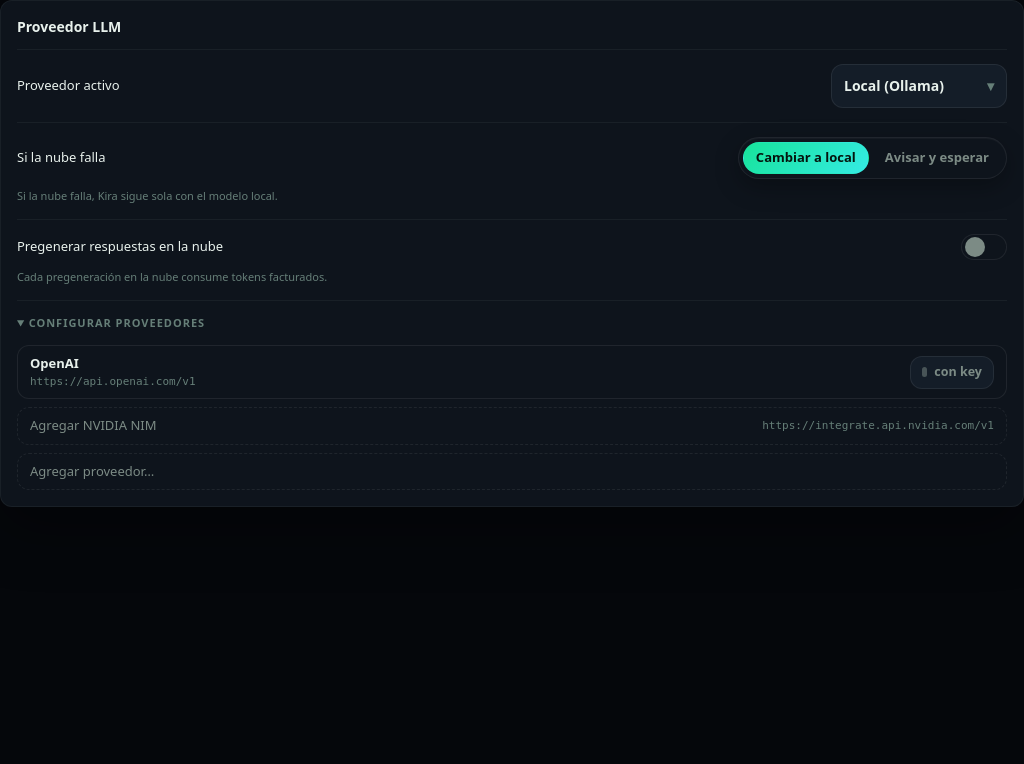
ProviderCard per-profile editor › disables Guardar for a custom id the inline hint already flagged invalid (F4)
The image size is (1024, 764).
Click the button "Agregar proveedor…". click: {"x": 92, "y": 471}
box: [17,453,1007,490]
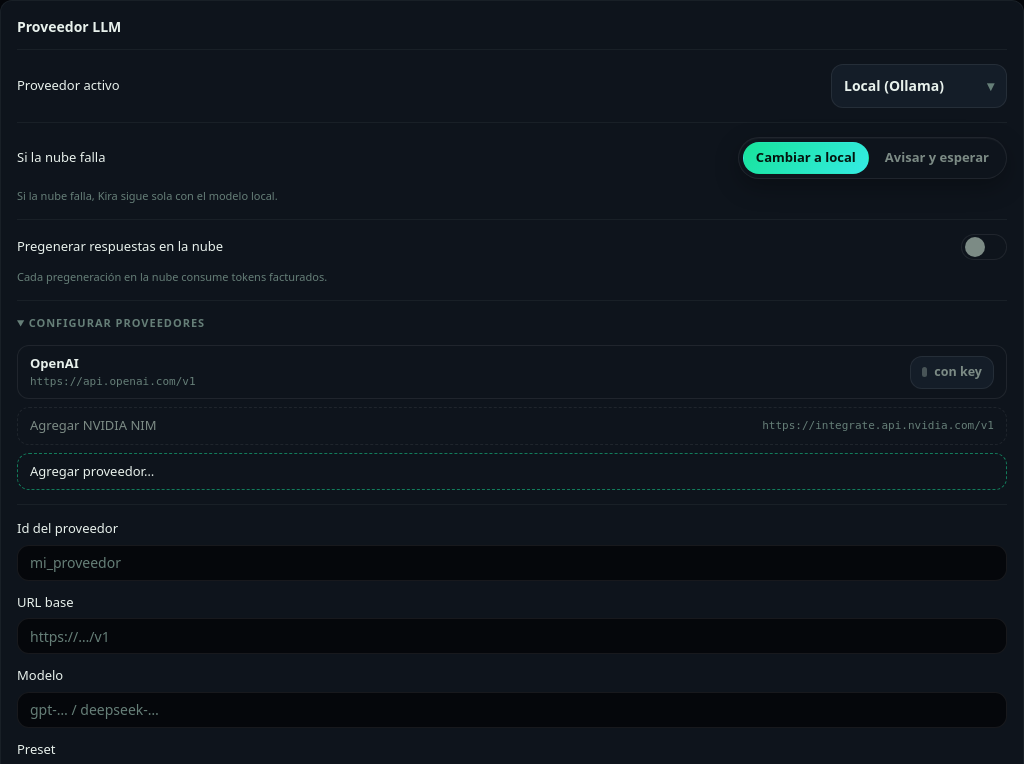
Type "Mi Proveedor" into the field labelled "Id del proveedor". click: {"x": 512, "y": 563}
box: [17,545,1007,581]
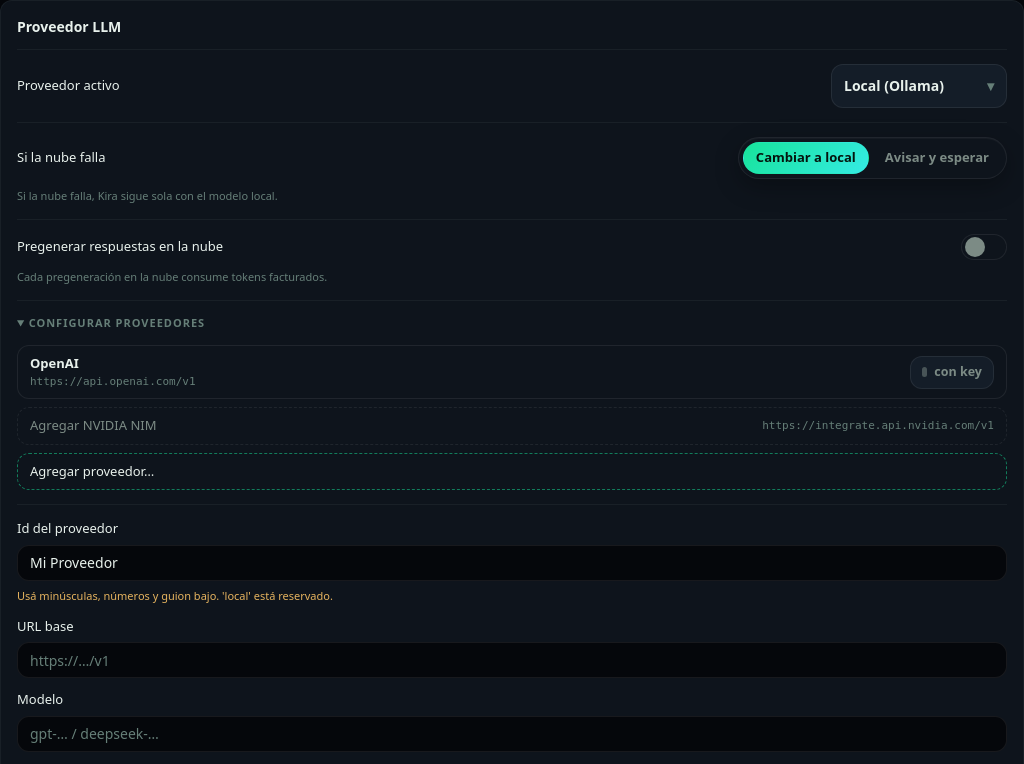
Expected: the text "Usá minúsculas, números y guion bajo" is shown, [17,588,333,603]
Replace the text in the field labelled "Id del proveedor" with "mi_proveedor". click: {"x": 512, "y": 563}
box: [17,545,1007,581]
(page scrolled)
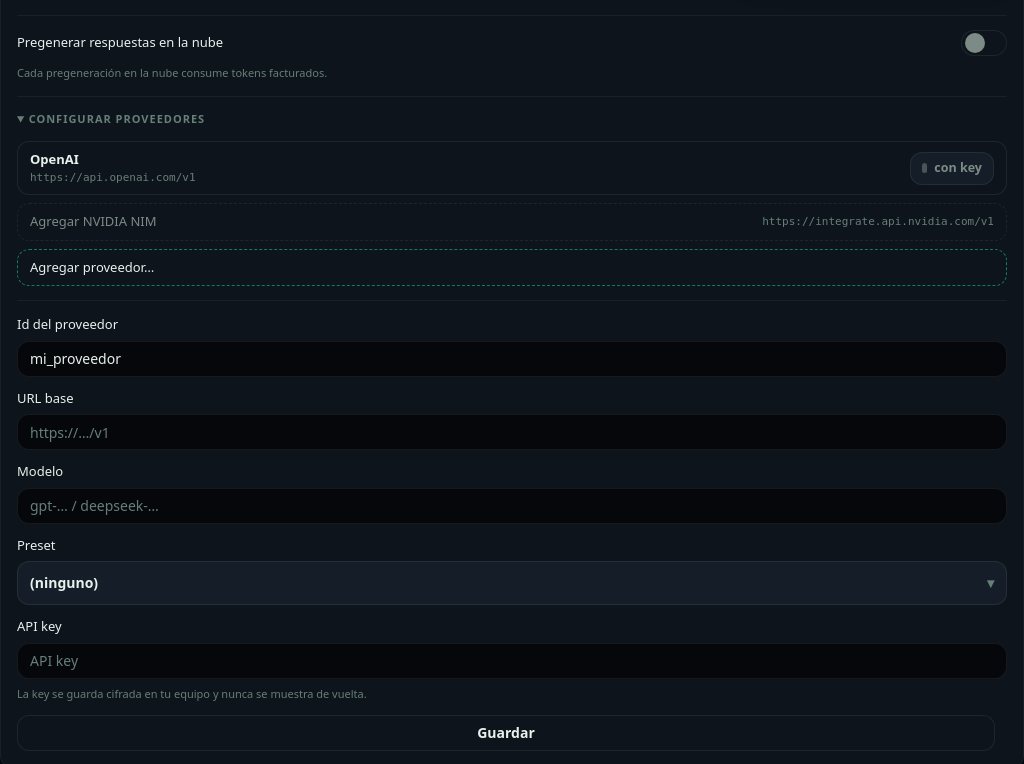
Expected: the button "Guardar" is enabled, [17,715,995,751]
